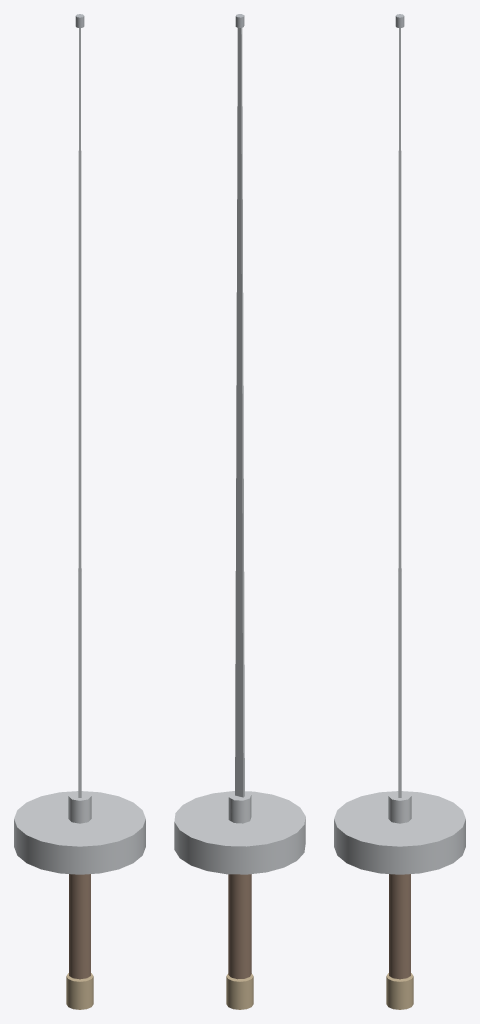
Rendered from epee.glb.
3 views of the same model, side by side, from view 1: azimuth 90°, elevation 25°; view 2: azimuth 150°, elevation 25°; view 3: azimuth 270°, elevation 25° (orthographic).
Parts seen in each view (by area): view 1: epee_steel, epee_grip, epee_brass; view 2: epee_steel, epee_grip, epee_brass; view 3: epee_steel, epee_grip, epee_brass.
Part boxes in pixels (<box>): epee_steel: <box>14,28,145,874</box>; epee_grip: <box>69,874,90,979</box>; epee_brass: <box>66,973,93,1009</box>; epee_steel: <box>174,28,305,874</box>; epee_grip: <box>228,874,251,979</box>; epee_brass: <box>226,973,253,1009</box>; epee_steel: <box>334,28,465,874</box>; epee_grip: <box>389,874,410,979</box>; epee_brass: <box>386,973,413,1009</box>.
Bounding box in the file's own units: 0.136 × 1.12 × 0.136.
